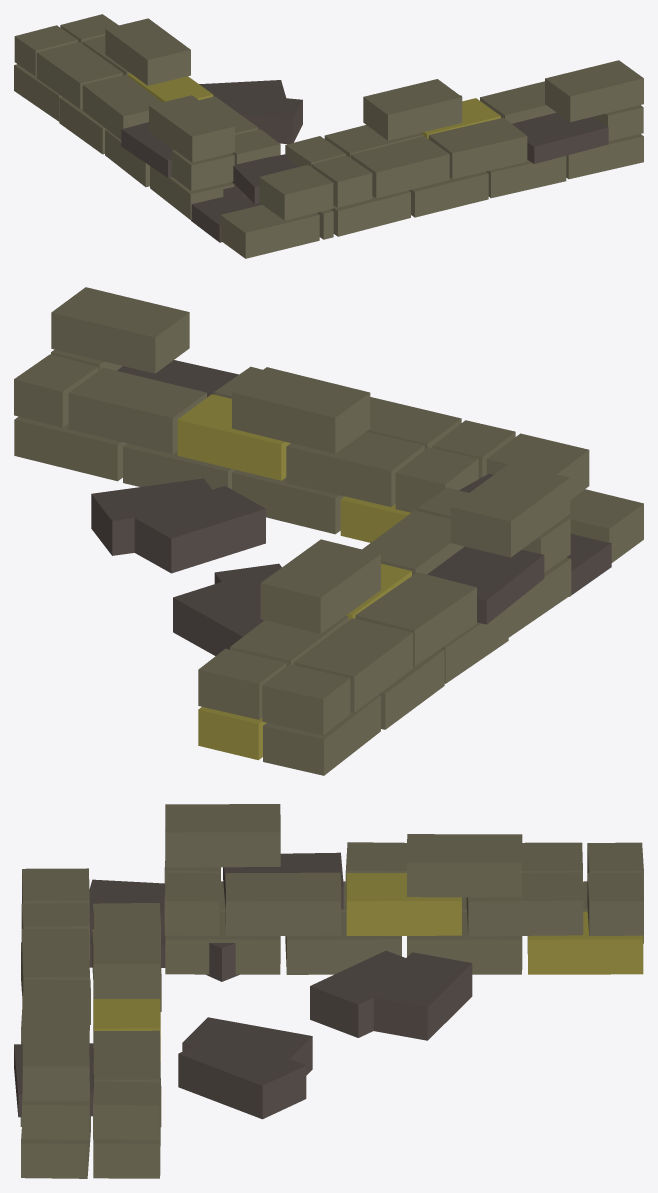
Rendered from SM_PretilEsquina_v2_Irregular_e2_MuyDanado_LOD0.fbx.
3 renders of one model, top to bottom at view 1: azimuth 30°, elevation 25°; view 2: azimuth 150°, elevation 25°; view 3: azimuth 270°, elevation 25°, orthographic. The views are drawn at different scales.
Parts seen in each view (by area): view 1: SM_pretil_azotea_v30_LOD0; view 2: SM_pretil_azotea_v30_LOD0; view 3: SM_pretil_azotea_v30_LOD0.
Part boxes in pixels (bbox=[...]): SM_pretil_azotea_v30_LOD0: bbox=[14, 14, 643, 258]; SM_pretil_azotea_v30_LOD0: bbox=[14, 287, 643, 775]; SM_pretil_azotea_v30_LOD0: bbox=[14, 804, 643, 1178].
Size of the model in its own units: 4.43 by 0.885 by 4.43.
